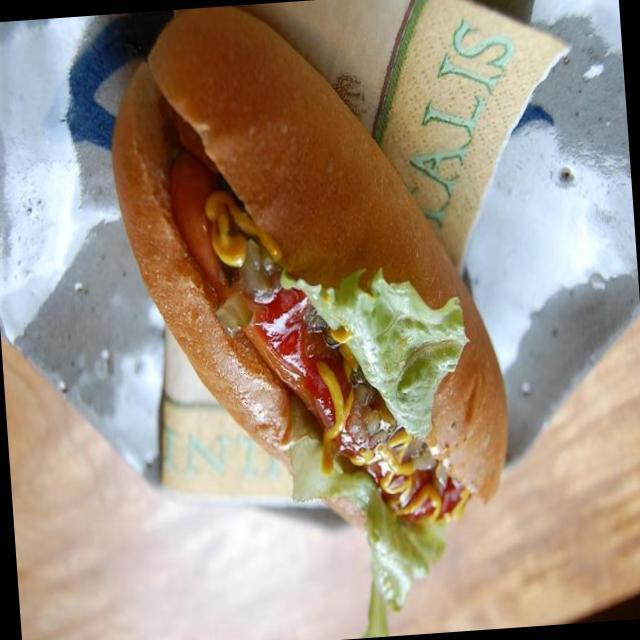Hot Dog: (105, 64, 542, 640)
